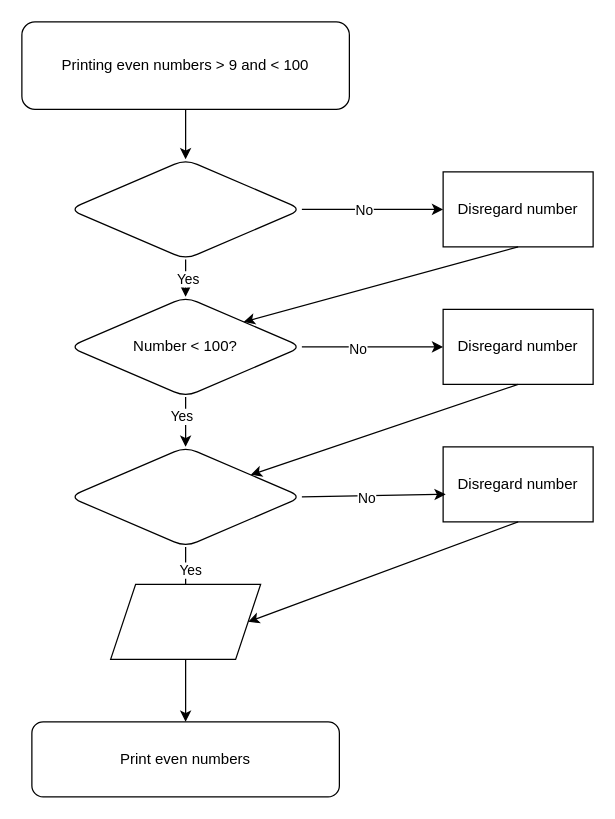
This 615x819 diagram has some shape labels left out. Here are the shapes that lost their labels. From the top down, the box of each, then its label:
(68, 158, 302, 259): Number > 9?
(68, 446, 302, 547): Number even?
(109, 583, 261, 659): Capture numbers
